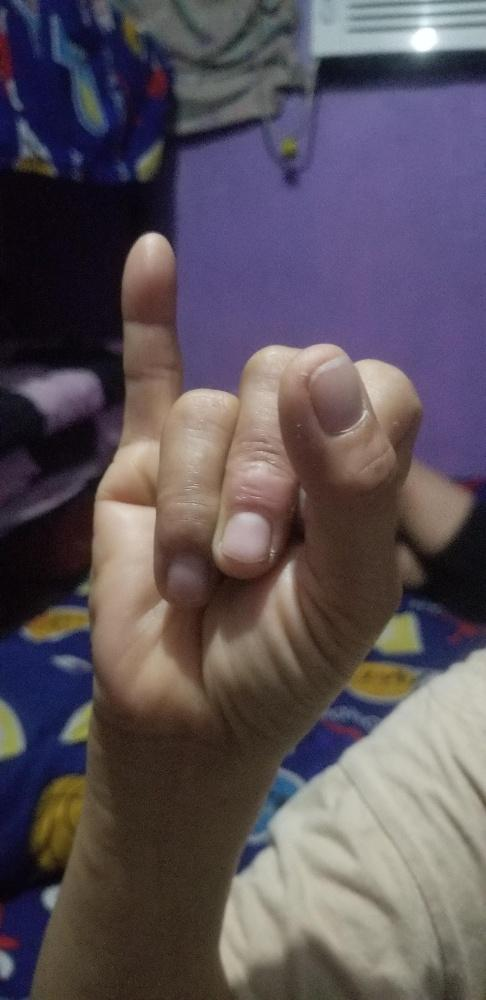i: (88, 232, 421, 747)
